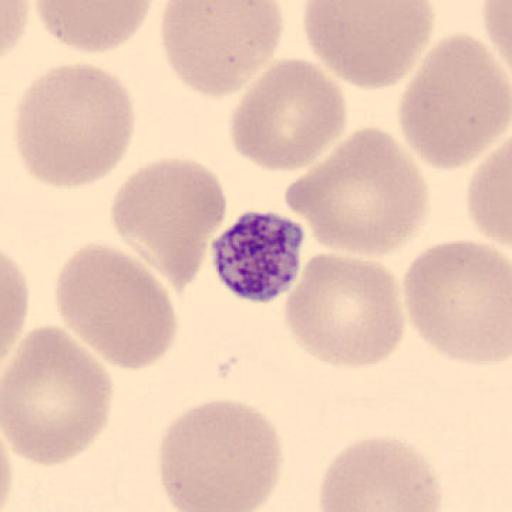Platelet: (207, 207, 306, 305)
RBC: (283, 125, 430, 259), (53, 240, 180, 372), (12, 60, 136, 192), (109, 154, 229, 290), (0, 325, 114, 468), (397, 31, 512, 172), (156, 396, 284, 512), (284, 252, 406, 370), (227, 57, 349, 173), (402, 238, 511, 366), (157, 1, 285, 99), (301, 0, 436, 90), (317, 433, 444, 512), (31, 0, 154, 55), (466, 138, 512, 246), (0, 248, 30, 362), (482, 1, 512, 98), (482, 0, 512, 69), (1, 0, 33, 59), (0, 427, 14, 512)
